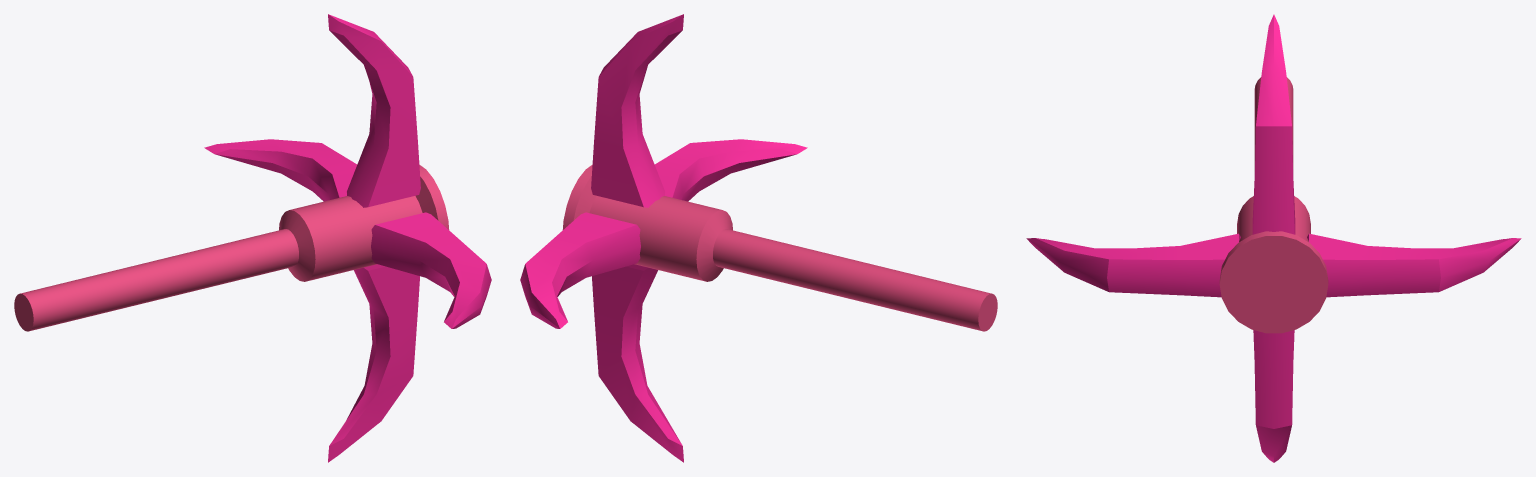
Rendered from Grappling Hook.fbx.
3 renders of one model, left to right at view 1: azimuth 30°, elevation 25°; view 2: azimuth 150°, elevation 25°; view 3: azimuth 270°, elevation 25°, orthographic.
Parts seen in each view (by area): view 1: Grappling Hook; view 2: Grappling Hook; view 3: Grappling Hook.
Boxes of the visible parts, x1,y1,x2,y2 form: Grappling Hook: (14, 14, 491, 462); Grappling Hook: (520, 14, 997, 462); Grappling Hook: (1026, 14, 1521, 462).
Bounding box in the file's own units: 0.176 × 0.1895 × 0.1895.
